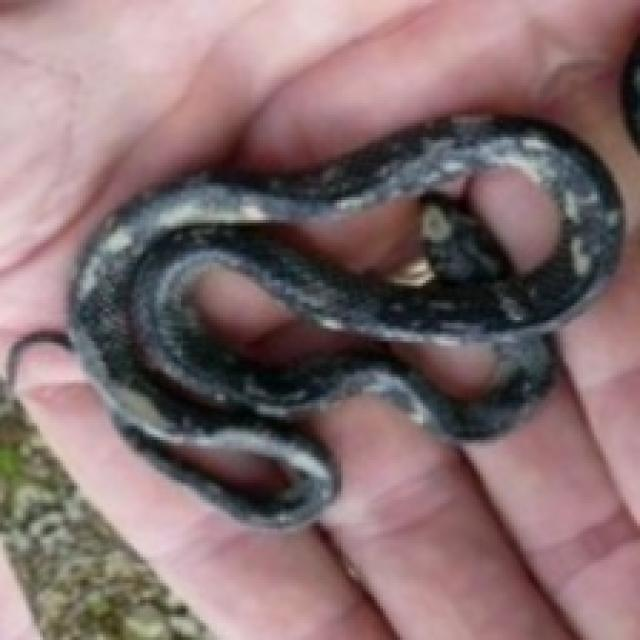gunthers philippine shrub snake: (0, 0, 637, 520), (14, 114, 620, 523)
